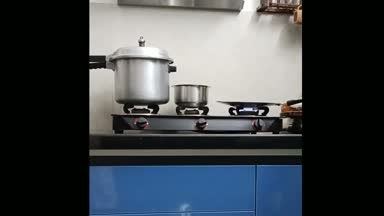flame_gas_off: (125, 104, 154, 131), (180, 106, 211, 129)
flame_gas_on: (235, 106, 269, 131)
